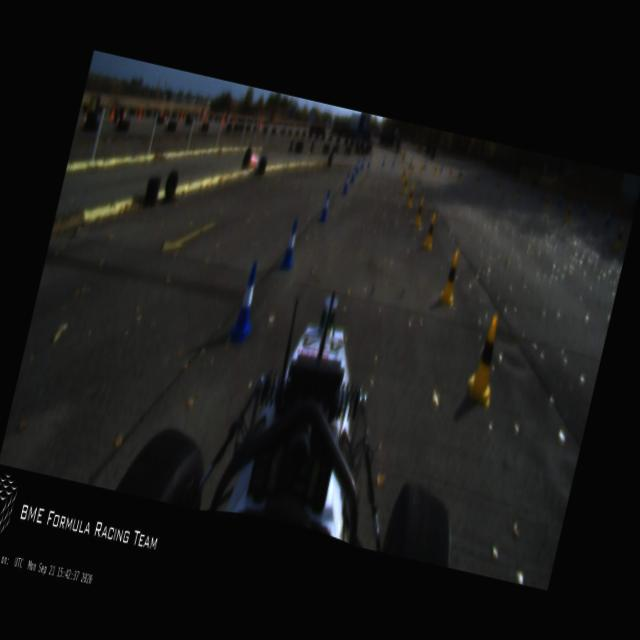blue_cone: (228, 260, 266, 344), (278, 217, 302, 271), (318, 190, 332, 222), (341, 172, 351, 194), (604, 208, 612, 228), (350, 164, 358, 183), (580, 198, 588, 216), (556, 191, 563, 206), (539, 186, 546, 201), (354, 159, 361, 173), (366, 154, 372, 168), (360, 156, 366, 169), (438, 161, 444, 172), (381, 154, 386, 166), (422, 158, 428, 168), (458, 164, 463, 176), (408, 158, 413, 168), (392, 156, 396, 166)
yellow_cone: (461, 308, 510, 411), (436, 248, 464, 307), (420, 212, 439, 251), (412, 196, 426, 228), (406, 183, 416, 208), (614, 227, 624, 250), (400, 175, 409, 194), (564, 204, 572, 222), (542, 194, 550, 211), (400, 166, 406, 182), (418, 163, 424, 176), (432, 165, 438, 177), (458, 171, 464, 183), (515, 186, 521, 198), (409, 162, 414, 175), (474, 172, 479, 185), (496, 180, 500, 191), (448, 168, 452, 178)
